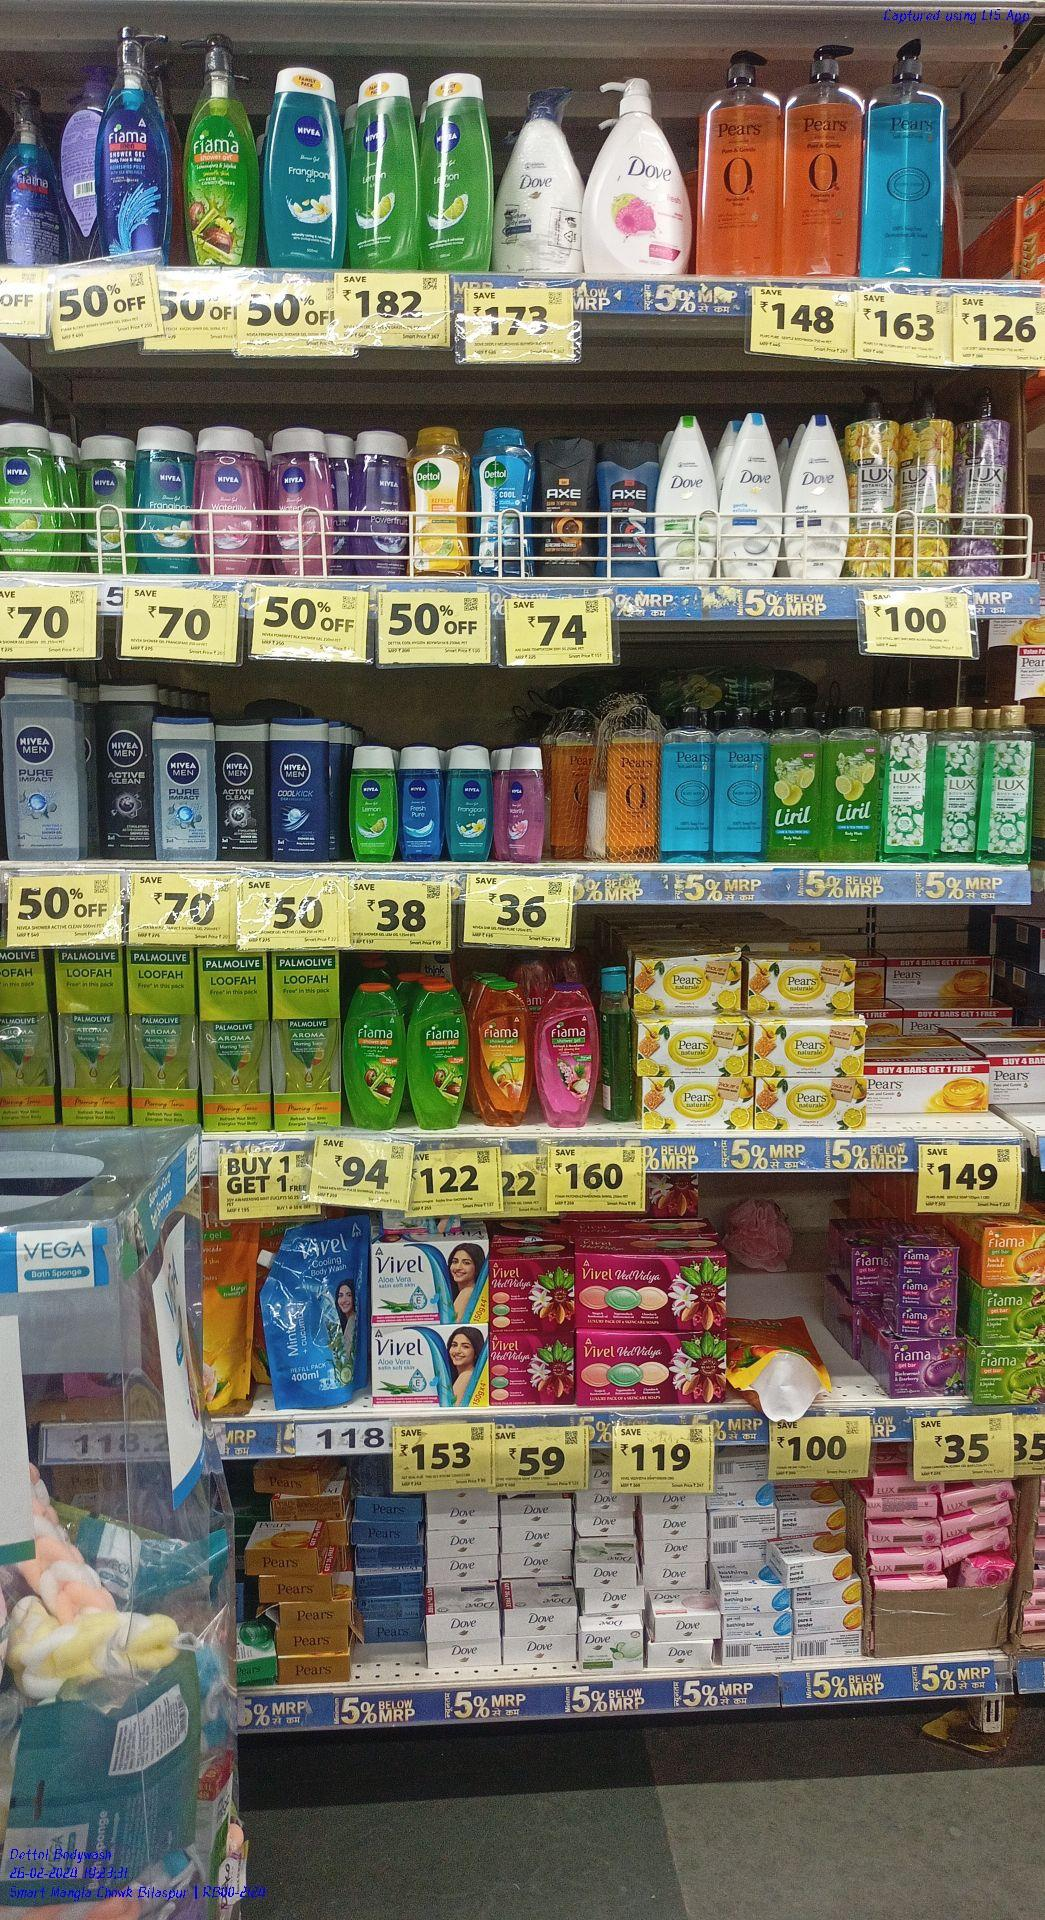Dettol_Bodywash_Cool: (484, 426, 532, 575)
Dettol_Bodywash_Refresh: (414, 429, 476, 573)
Dove_Deep_Moisture_Body_Wash_250ML: (789, 413, 851, 578)
Dove_Gentle_Exfoliating_Body_Wash_250ML: (725, 413, 782, 583)
Dove_Refreshing_Body_Wash_250ML: (654, 414, 716, 575)
Fiama_Shower_Gel_Lemongrass_and_Jojoba_250ML: (347, 988, 403, 1130), (413, 984, 466, 1129)
Fiama_Shower_Gel_Patchouli_and_Macadamia_250ML: (535, 984, 597, 1131)
Fiama_Shower_Gel_Peach_and_Avocado_250ML: (475, 983, 532, 1131)
Lux_Body_Wash_Skin_Detox_Freesia_Scent_and_Alove_Vera_245ML: (986, 705, 1036, 863), (884, 706, 929, 854), (934, 706, 978, 857)
Nivea_Shower_Gel_Frangipani_and_Oil_250ML: (138, 423, 196, 575)
Nivea_Shower_Gel_Fresh_Powerfruit_250ML: (358, 432, 408, 575)
Nivea_Shower_Gel_Lemon_and_Oil_250ML: (0, 422, 54, 569)
Nivea_Shower_Gel_Waterlily_and_Oil_250ML: (270, 427, 338, 573), (202, 423, 263, 573)
